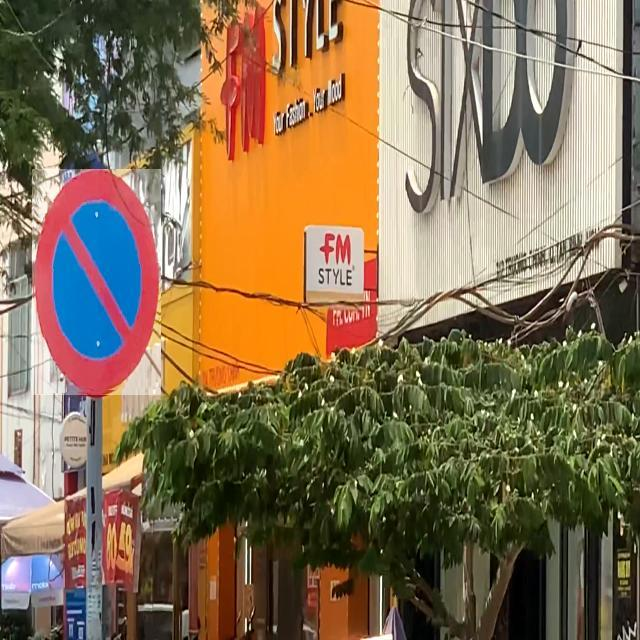P-131a: (32, 170, 161, 396)
